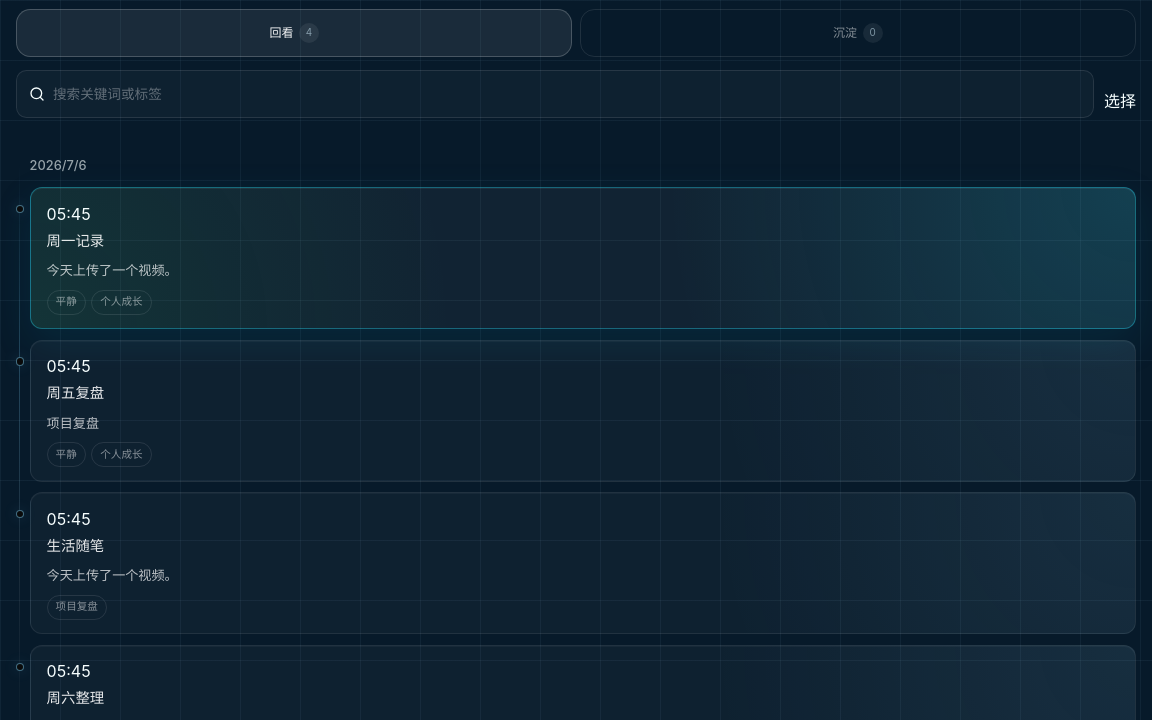
Test: PastRepository › matches record content and tags without following stored action links
In the search field named "搜索记录": x=567, y=94 [53,84,1081,105], type "项目复盘"
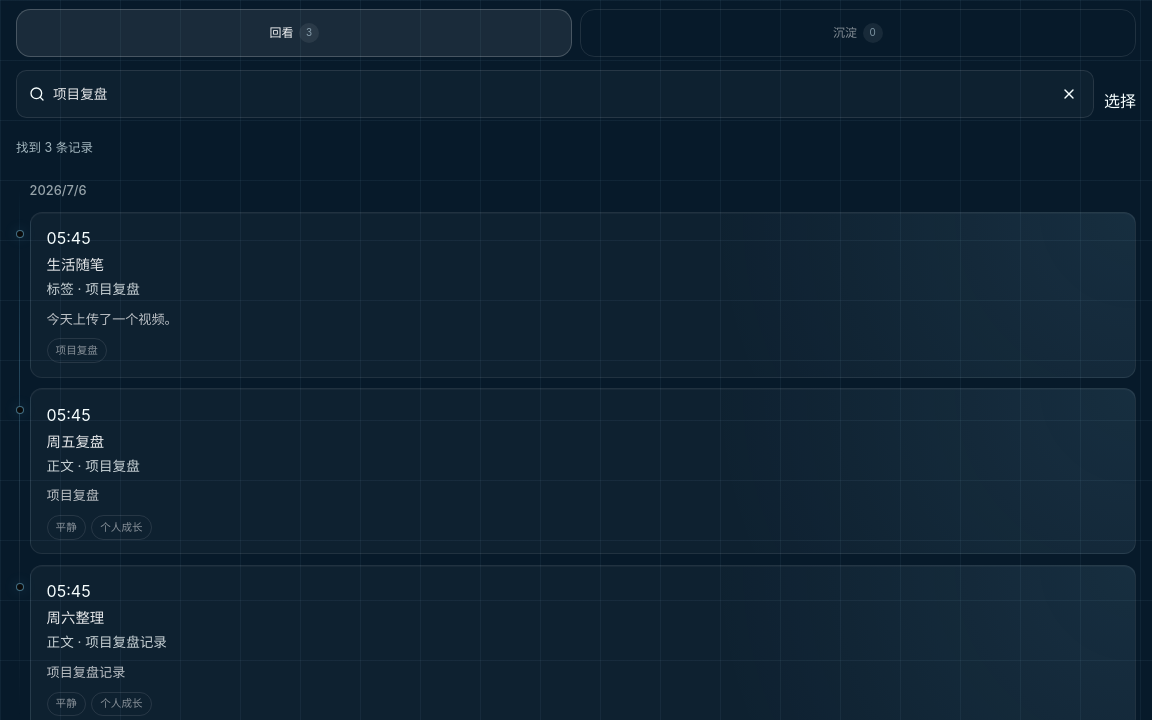
Expected: the text "周五复盘" is shown, [47,433,104,450]
Expected: the text "周一记录" is gone
